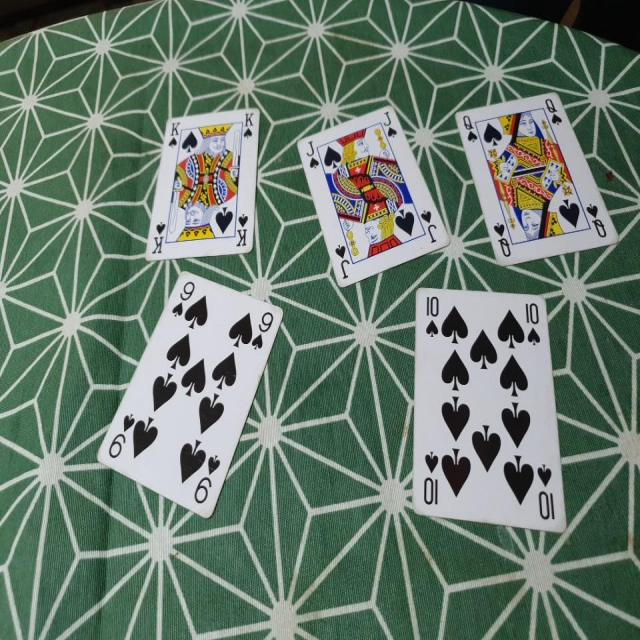10 Spades: (411, 277, 571, 538)
9 Spades: (89, 260, 288, 520)
J Spades: (291, 100, 454, 286)
K Spades: (145, 102, 262, 260)
Q Spades: (458, 82, 624, 266)
